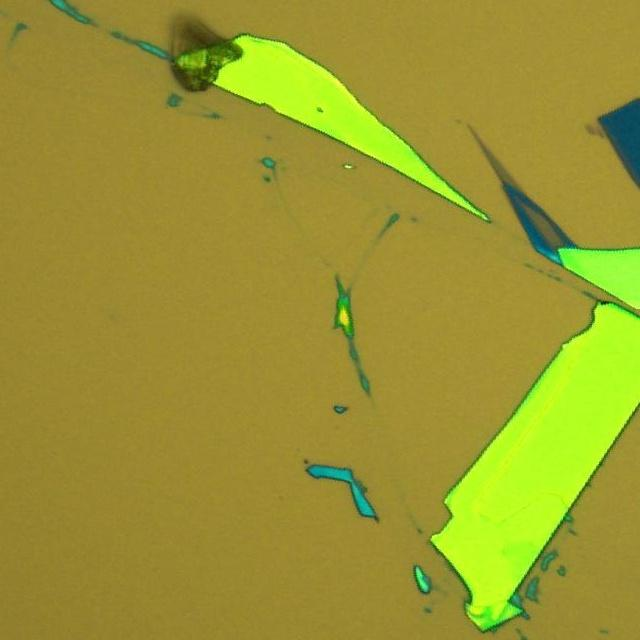monolayer-eWW4: (466, 120, 520, 188), (522, 198, 560, 247)
